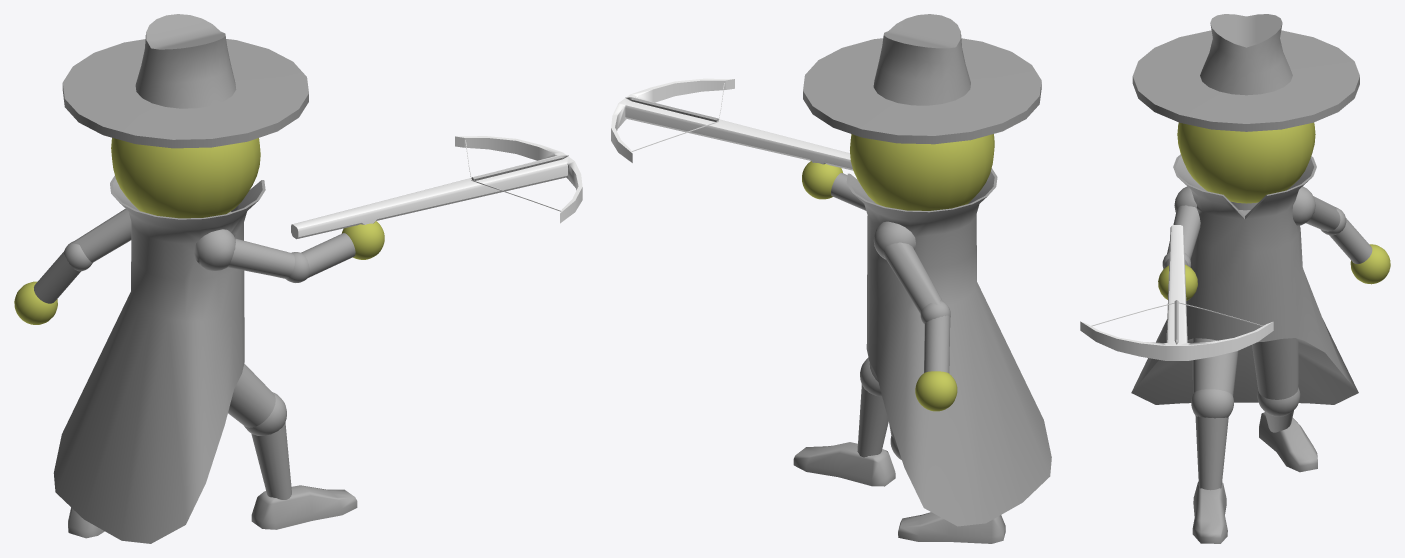
The model's file is van_helsing_with_bow.fbx.
3 views of the same model, side by side, from view 1: azimuth 30°, elevation 25°; view 2: azimuth 150°, elevation 25°; view 3: azimuth 270°, elevation 25° (orthographic). The views are drawn at different scales.
Visible parts, largest first — view 1: MainCharacterShape, CrossBow; view 2: MainCharacterShape, CrossBow; view 3: MainCharacterShape, CrossBow.
Part boxes in pixels (<box>): MainCharacterShape: <box>14,14,384,543</box>; CrossBow: <box>291,136,582,239</box>; MainCharacterShape: <box>793,14,1051,543</box>; CrossBow: <box>611,78,853,170</box>; MainCharacterShape: <box>1131,14,1390,543</box>; CrossBow: <box>1080,225,1273,360</box>.
Size of the model in its own units: 6.96 by 7.29 by 4.5.
